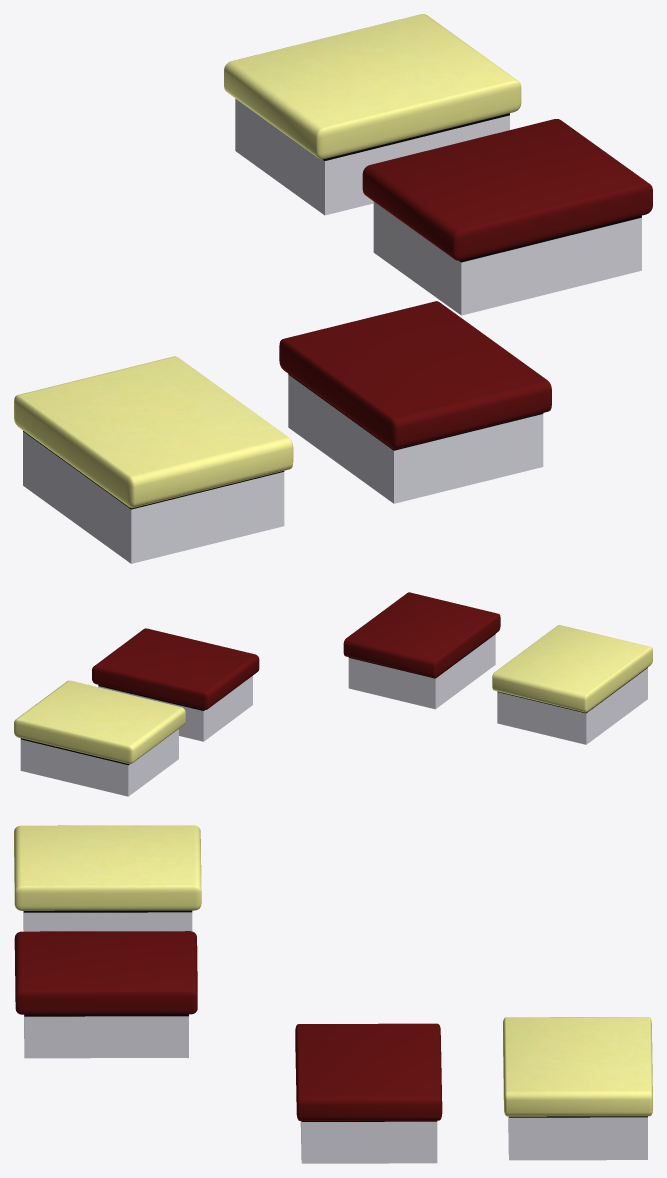
Rendered from sillas.obj.
The picture shows the model from 3 angles, top to bottom: view 1: azimuth 30°, elevation 25°; view 2: azimuth 150°, elevation 25°; view 3: azimuth 270°, elevation 25°; orthographic projection. The views are drawn at different scales.
Visible parts, largest first — view 1: silla_y_pCube8, pasted__silla_r_pCube8 group41, silla_r_pCube8, pasted__silla_y_pCube8 group40; view 2: pasted__silla_y_pCube8 group40, silla_y_pCube8, silla_r_pCube8, pasted__silla_r_pCube8 group41; view 3: silla_r_pCube8, pasted__silla_y_pCube8 group40, pasted__silla_r_pCube8 group41, silla_y_pCube8.
Boxes of the visible parts, box(x1,y1,x2,y2) form: silla_y_pCube8: box(14, 356, 293, 563); pasted__silla_r_pCube8 group41: box(362, 119, 652, 315); silla_r_pCube8: box(279, 301, 551, 503); pasted__silla_y_pCube8 group40: box(224, 14, 521, 215); pasted__silla_y_pCube8 group40: box(14, 680, 185, 796); silla_y_pCube8: box(492, 625, 652, 744); silla_r_pCube8: box(343, 592, 500, 709); pasted__silla_r_pCube8 group41: box(92, 628, 259, 741); silla_r_pCube8: box(14, 931, 197, 1058); pasted__silla_y_pCube8 group40: box(503, 1017, 652, 1160); pasted__silla_r_pCube8 group41: box(295, 1023, 442, 1163); silla_y_pCube8: box(14, 825, 201, 931).
Bounding box in the file's own units: 4.03 × 0.5354 × 4.03.
17 materials, 13 textured.
